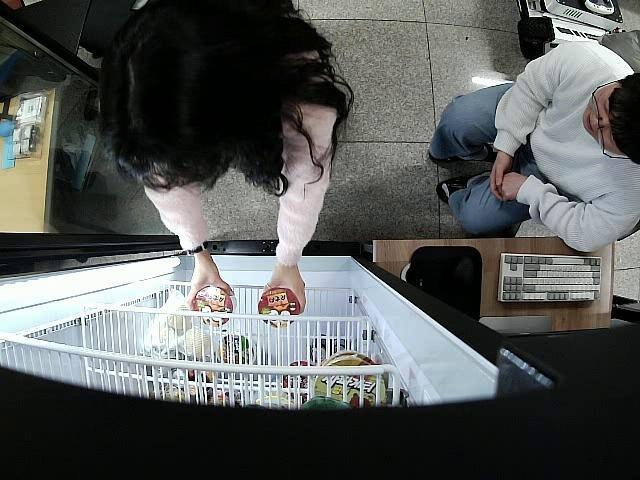06_nuguri_S: (191, 286, 236, 328), (258, 288, 302, 326)
